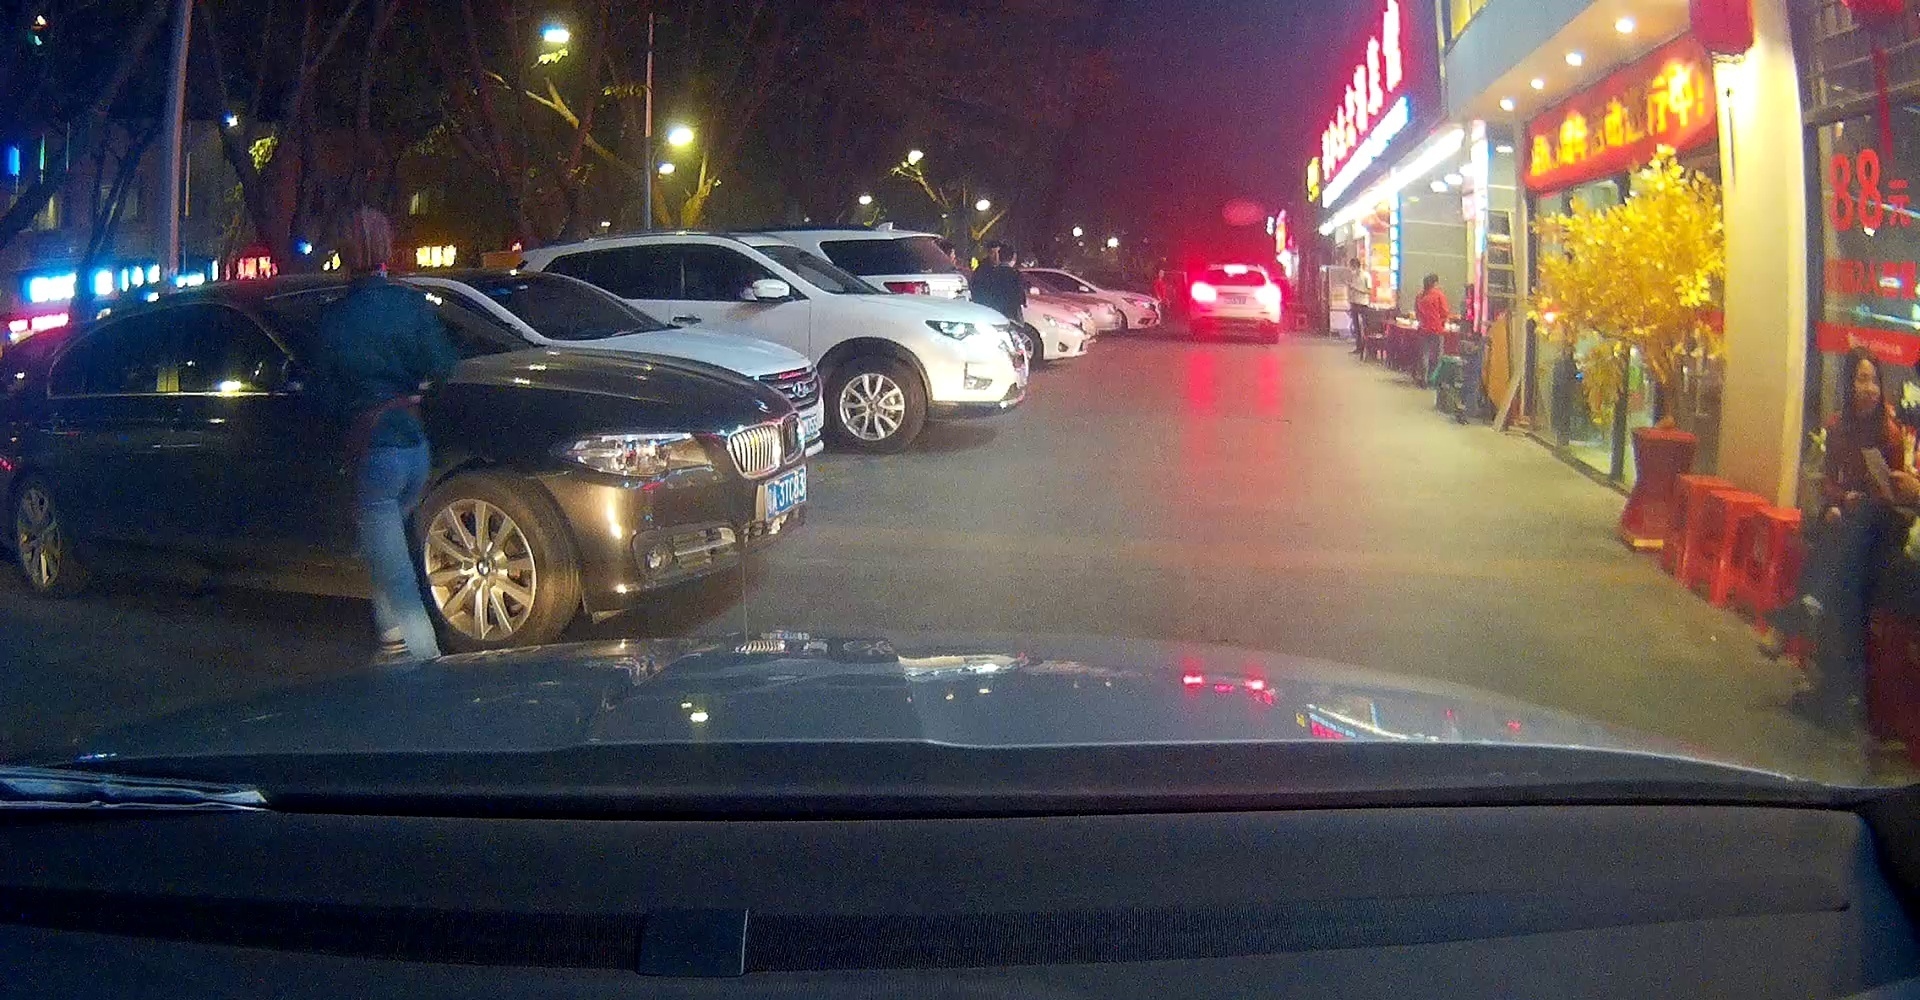L_light: (1190, 283, 1217, 302)
R_light: (1255, 286, 1281, 305)
T_light: (1222, 265, 1247, 274)
night-brake: (1189, 264, 1281, 345)
